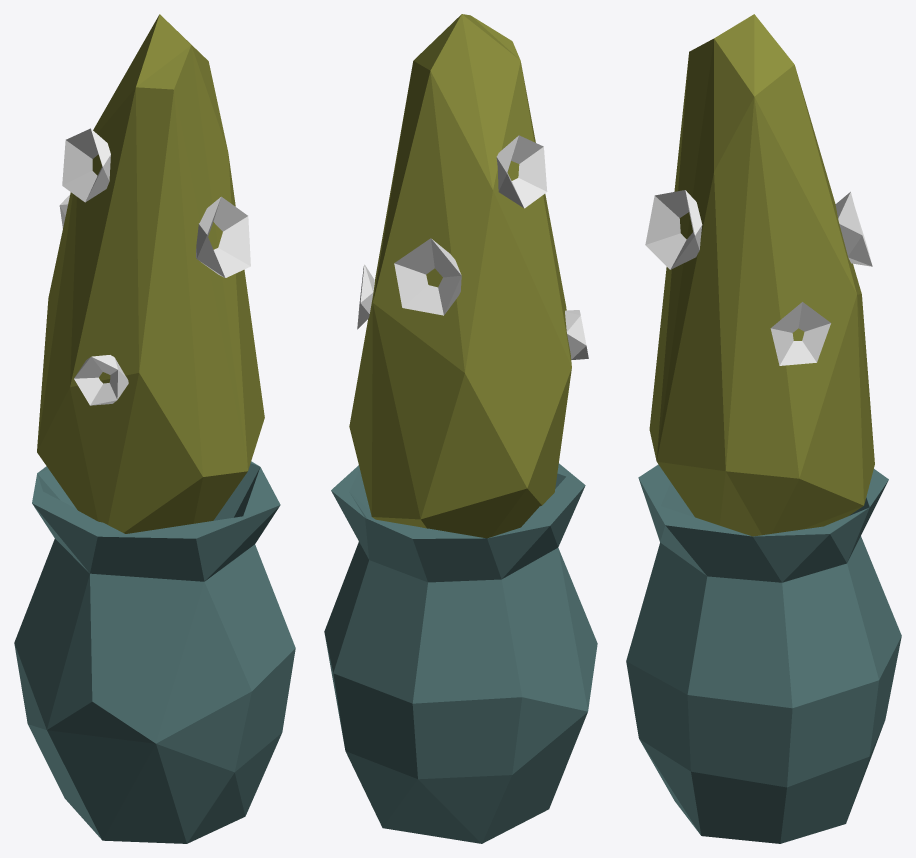
Rendered from fantasy_plant_1.fbx.
3 views of the same model, side by side, from view 1: azimuth 30°, elevation 25°; view 2: azimuth 150°, elevation 25°; view 3: azimuth 270°, elevation 25° (orthographic).
Visible parts, largest first — view 1: Icosphere.001, Cylinder.008, Icosphere.004; view 2: Icosphere.001, Cylinder.008, Icosphere.004; view 3: Icosphere.001, Cylinder.008, Icosphere.004.
Part boxes in pixels (left/top/right/bottom): Icosphere.001: left=37, top=14, right=264, bottom=533; Cylinder.008: left=14, top=461, right=295, bottom=843; Icosphere.004: left=59, top=128, right=250, bottom=405; Icosphere.001: left=349, top=14, right=571, bottom=538; Cylinder.008: left=324, top=463, right=597, bottom=843; Icosphere.004: left=357, top=135, right=588, bottom=359; Icosphere.001: left=649, top=14, right=874, bottom=536; Cylinder.008: left=626, top=464, right=901, bottom=843; Icosphere.004: left=645, top=190, right=872, bottom=365.
Bounding box in the file's own units: 19.73 × 62.66 × 19.73.
